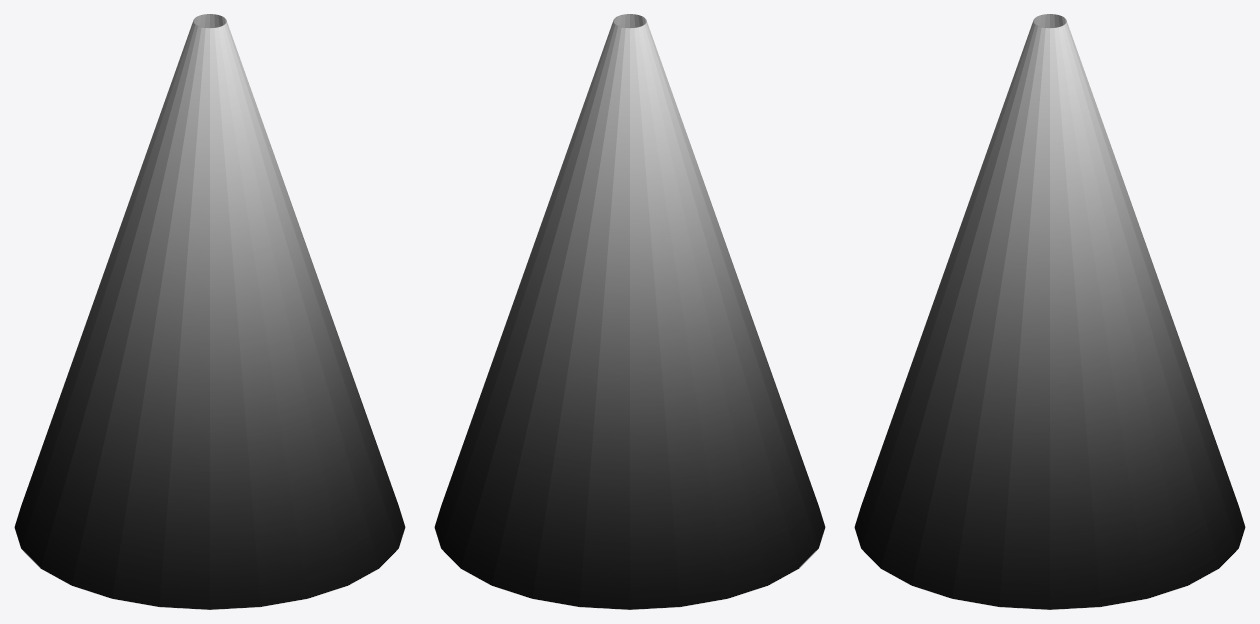
File: testing_flash_light.fbx
3 views of the same model, side by side, from view 1: azimuth 30°, elevation 25°; view 2: azimuth 150°, elevation 25°; view 3: azimuth 270°, elevation 25° (orthographic).
Parts seen in each view (by area): view 1: Cone; view 2: Cone; view 3: Cone.
Boxes of the visible parts, box(x1,y1,x2,y2) form: Cone: box(14, 21, 405, 609); Cone: box(434, 21, 825, 609); Cone: box(854, 21, 1245, 609).
Size of the model in its own units: 140 by 200 by 140.
